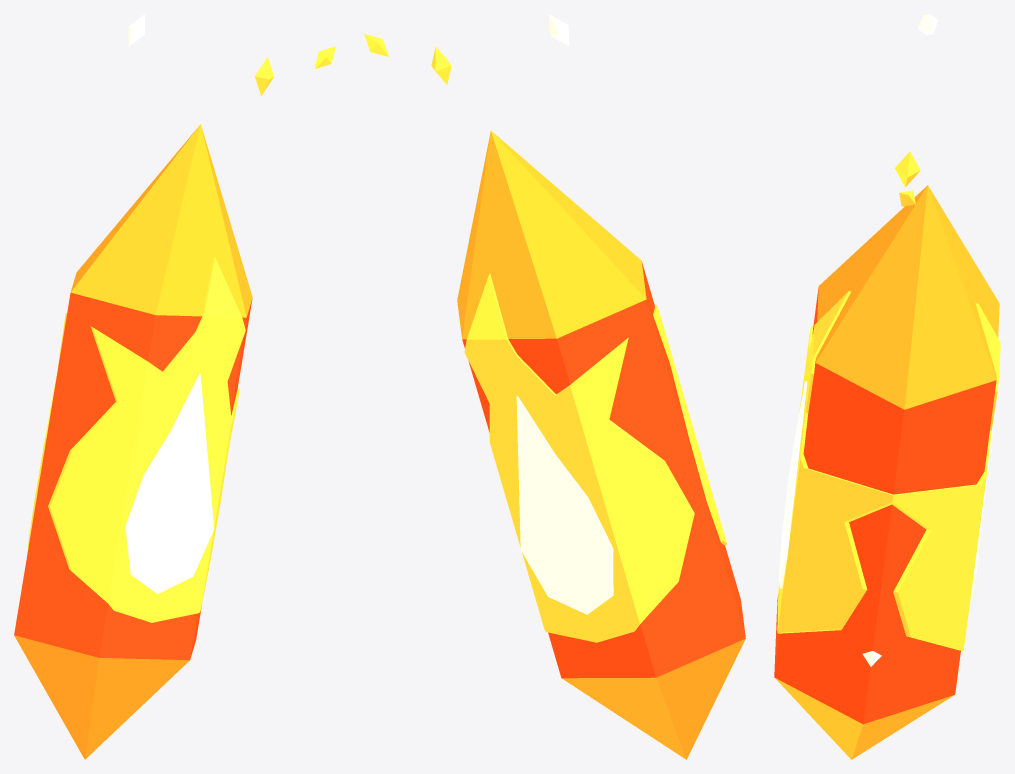
File: ember_shard.glb
3 renders of one model, left to right at view 1: azimuth 30°, elevation 25°; view 2: azimuth 150°, elevation 25°; view 3: azimuth 270°, elevation 25°, orthographic. The views are drawn at different scales.
Parts seen in each view (by area): view 1: ember_shard; view 2: ember_shard; view 3: ember_shard.
Part boxes in pixels (bbox=[...]): ember_shard: bbox=[14, 14, 335, 759]; ember_shard: bbox=[364, 14, 745, 759]; ember_shard: bbox=[774, 14, 1000, 759].
Size of the model in its own units: 0.122 by 0.24 by 0.0617.
